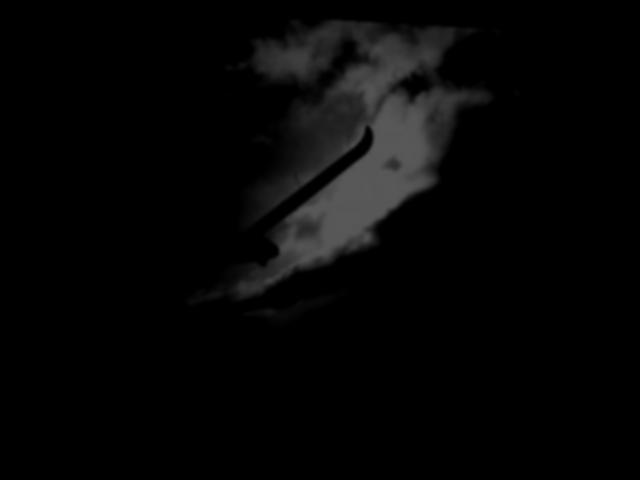hedef: (87, 89, 388, 340)
